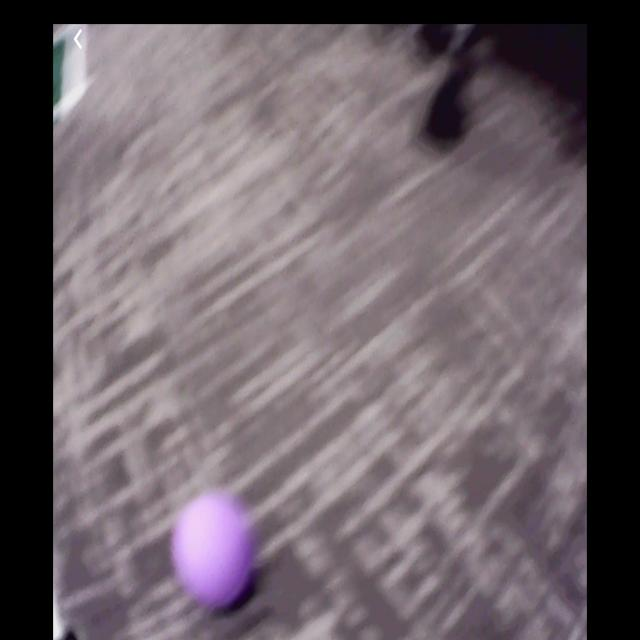ball: (173, 493, 257, 612)
